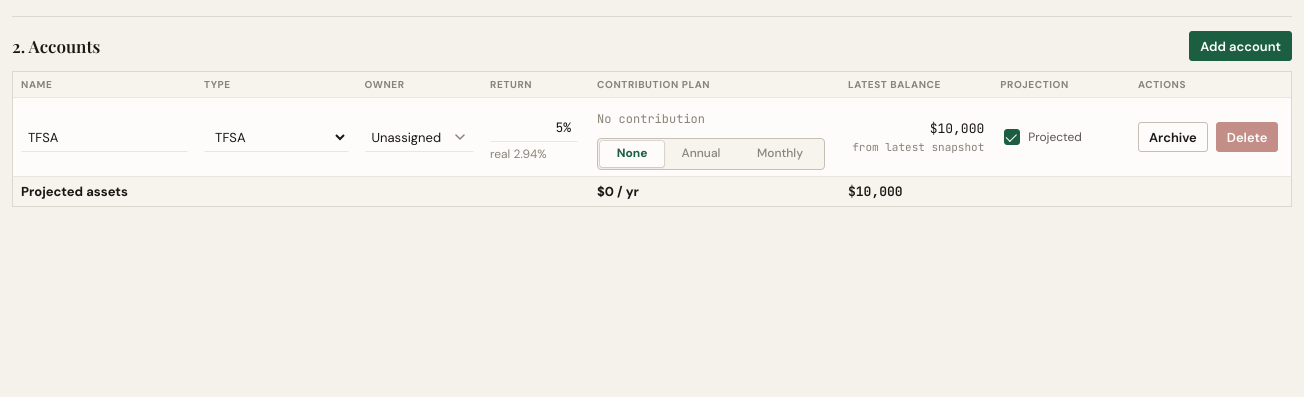
Test case: AccountsSection — owner dropdown › shows owner names in new account owner dropdown
The image size is (1304, 397).
Click the button "Add account" at (1241, 46), box [1189,31,1292,61]
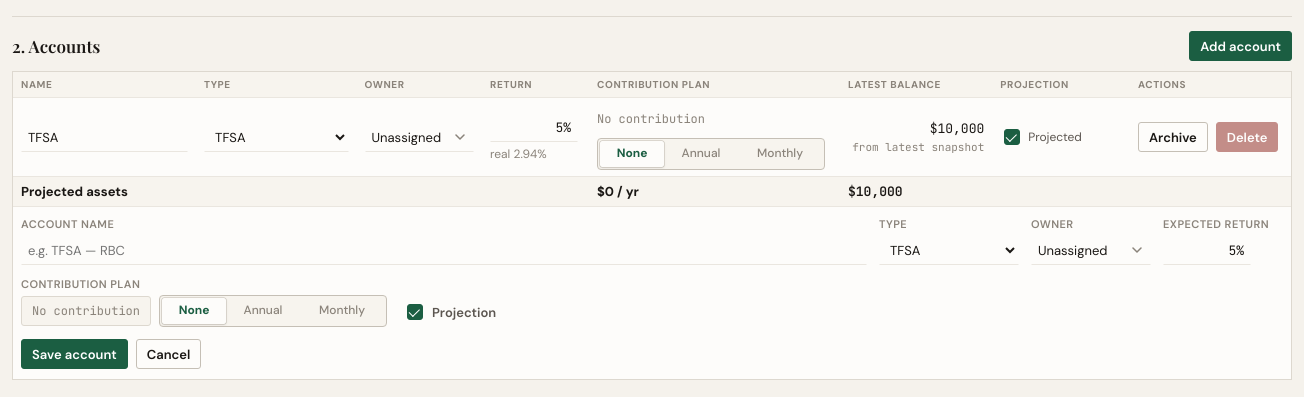
Now the dropdown named "New account owner" is shown, box [1031,235,1151,265]
